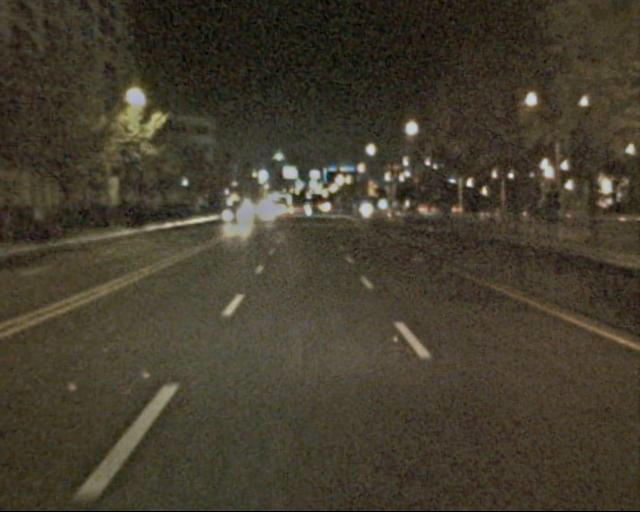person: (541, 184, 564, 239), (528, 186, 549, 238)
